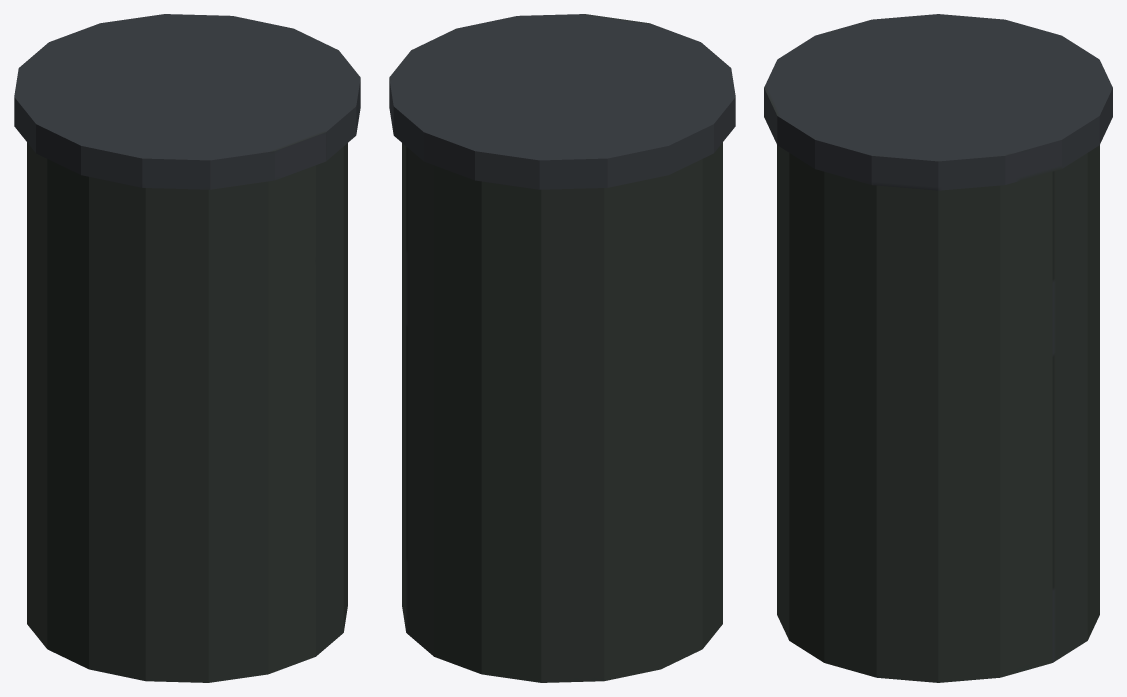
Rendered from kos_99914b93.glb.
The picture shows the model from 3 angles, left to right: view 1: azimuth 30°, elevation 25°; view 2: azimuth 150°, elevation 25°; view 3: azimuth 270°, elevation 25°; orthographic projection.
Parts seen in each view (by area): view 1: dum; view 2: dum; view 3: dum.
Boxes of the visible parts, x1,y1,x2,y2 form: dum: (14, 14, 360, 682); dum: (389, 14, 735, 682); dum: (764, 14, 1112, 682).
Size of the model in its own units: 0.5386 by 0.8977 by 0.5386.
Materials: 1 (1 with a texture image).
